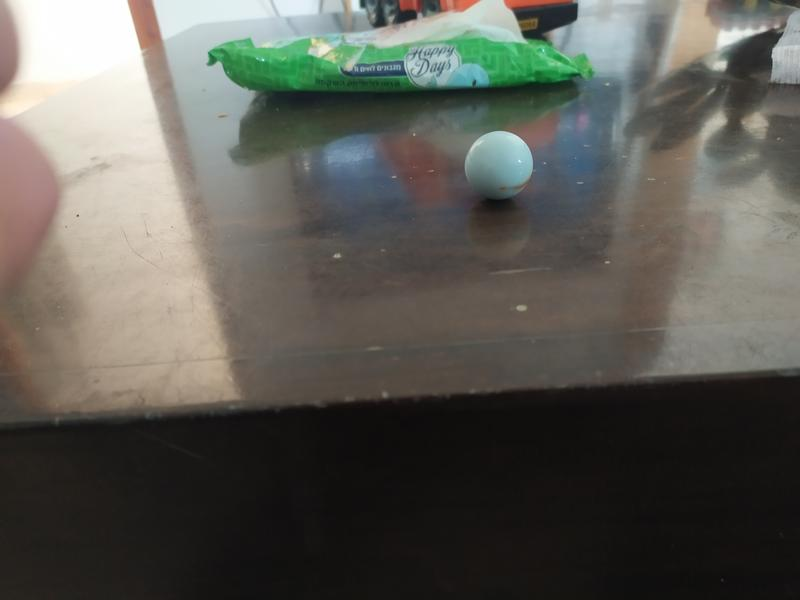Warning: (462, 128, 536, 203)
